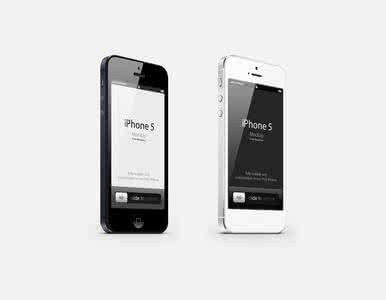phone: (217, 58, 288, 236), (104, 58, 171, 235)
